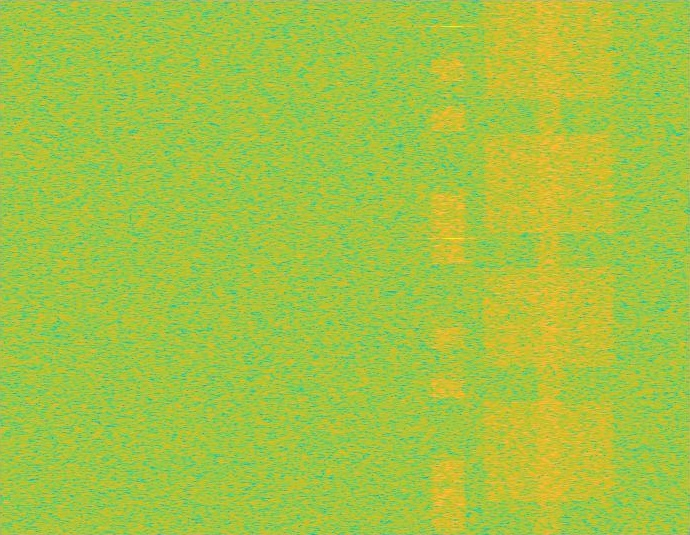5G: (480, 0, 618, 534)
DSSS: (533, 0, 565, 534)
LTE: (431, 0, 466, 534)
Radar: (445, 0, 459, 534)
